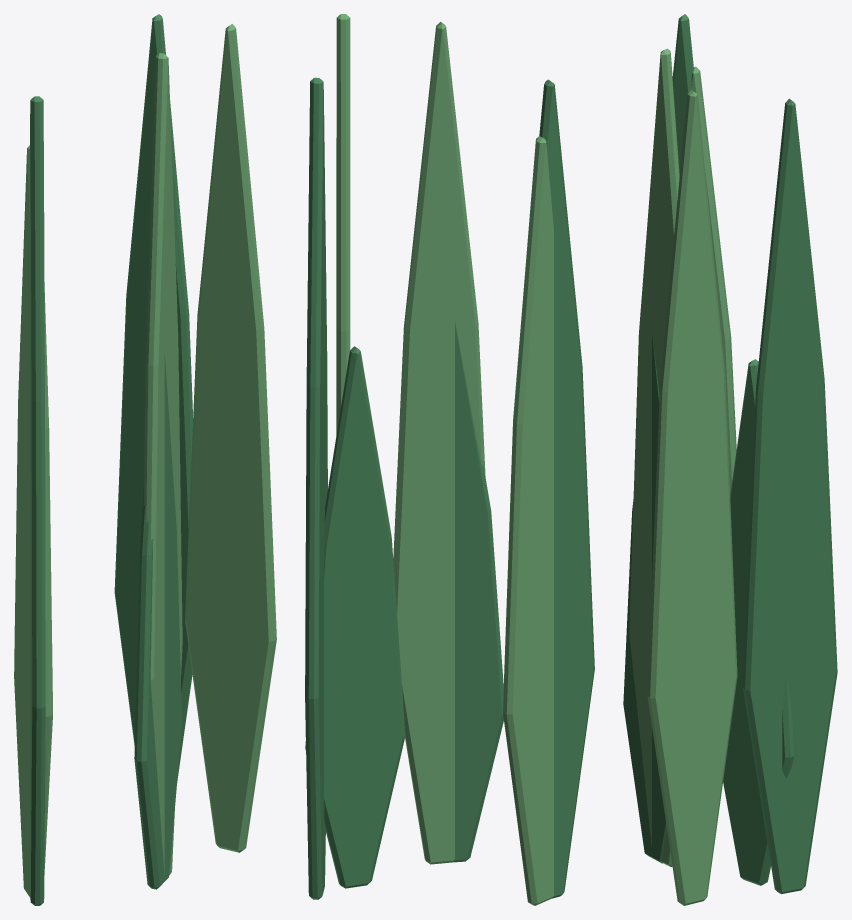
Rendered from prop_uw_eelgrass_a.glb.
3 renders of one model, left to right at view 1: azimuth 30°, elevation 25°; view 2: azimuth 150°, elevation 25°; view 3: azimuth 270°, elevation 25°, orthographic. The views are drawn at different scales.
Visible parts, largest first — view 1: eela_3, eela_5, eela_0, eela_4, eela_1, eela_6; view 2: eela_0, eela_2, eela_6, eela_1, eela_4, eela_5, eela_3; view 3: eela_5, eela_3, eela_0, eela_2, eela_4, eela_6, eela_1.
Boxes of the visible parts, <box> form: eela_3: <box>185,24,276,852</box>; eela_5: <box>114,14,193,782</box>; eela_0: <box>143,53,182,874</box>; eela_4: <box>134,354,181,889</box>; eela_1: <box>30,96,45,905</box>; eela_6: <box>14,145,52,897</box>; eela_0: <box>393,21,485,864</box>; eela_2: <box>305,346,405,888</box>; eela_6: <box>503,136,553,905</box>; eela_1: <box>539,79,594,898</box>; eela_4: <box>453,322,503,862</box>; eela_5: <box>305,77,327,899</box>; eela_3: <box>336,14,350,435</box>; eela_5: <box>743,98,837,894</box>; eela_3: <box>647,89,737,905</box>; eela_0: <box>629,48,679,866</box>; eela_2: <box>723,359,793,885</box>; eela_4: <box>623,335,666,863</box>; eela_6: <box>691,66,736,494</box>; eela_1: <box>672,14,693,174</box>.
Size of the model in its own units: 0.2339 by 0.7443 by 0.1776.
